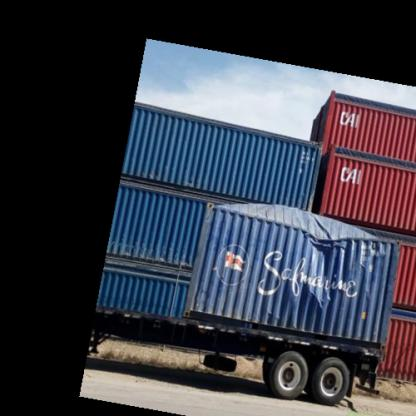Damage: (210, 198, 384, 309)
